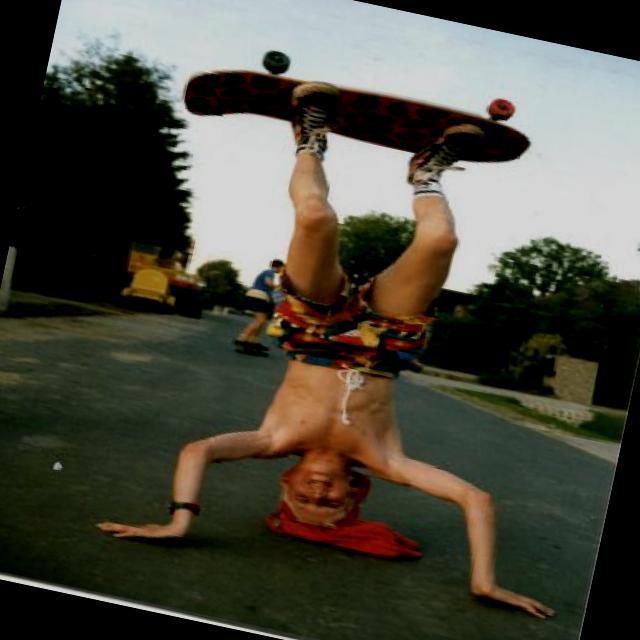Person: (89, 50, 640, 633), (232, 252, 288, 356)
